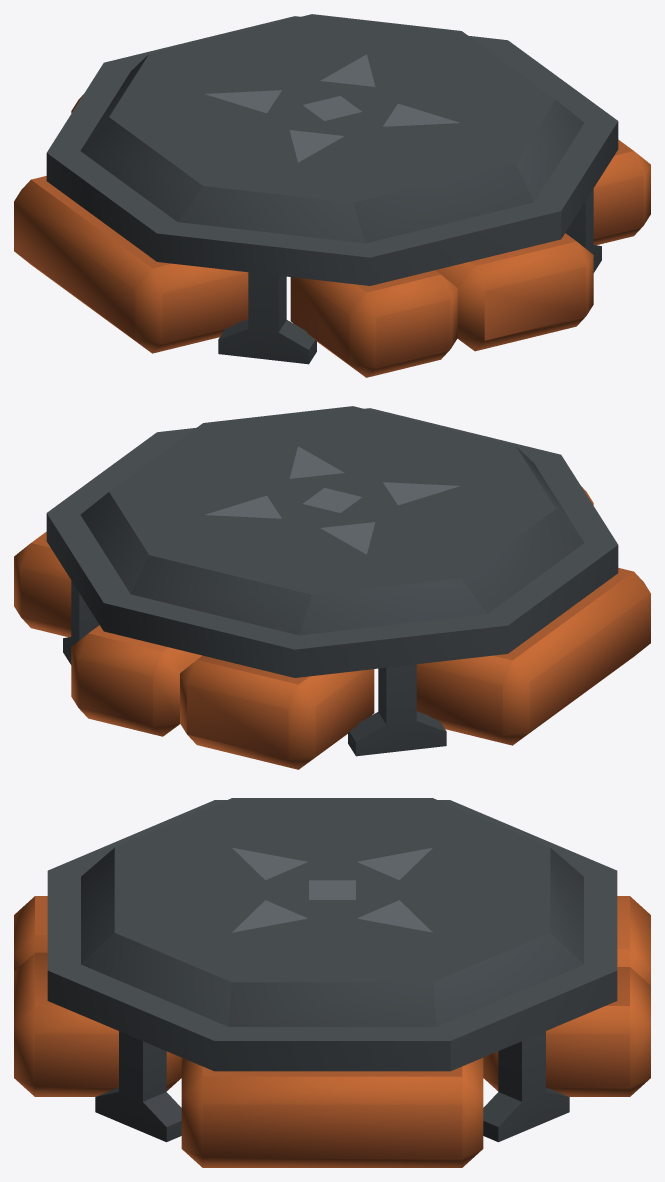
Rendered from space-landingpad-small.glb.
3 views of the same model, one above another, from view 1: azimuth 30°, elevation 25°; view 2: azimuth 150°, elevation 25°; view 3: azimuth 270°, elevation 25° (orthographic). The views are drawn at different scales.
Parts seen in each view (by area): view 1: landingpad_small; view 2: landingpad_small; view 3: landingpad_small.
Part boxes in pixels (<box>): landingpad_small: <box>14,14,650,377</box>; landingpad_small: <box>14,406,650,769</box>; landingpad_small: <box>14,798,650,1167</box>.
Bounding box in the file's own units: 1.9 × 0.5 × 1.9.
